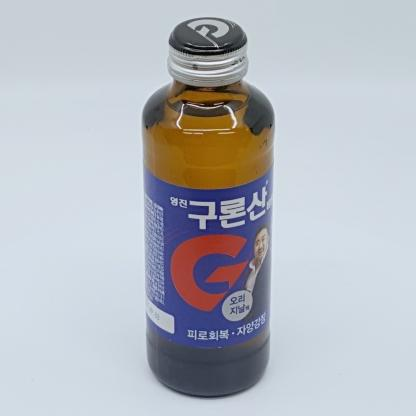---------------150ML: (142, 17, 275, 397)
